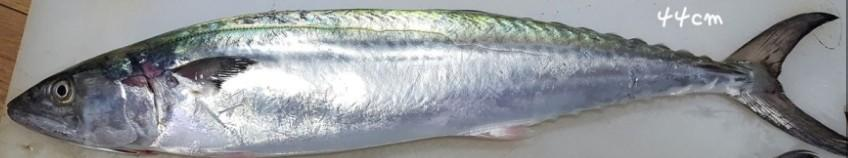fish: (8, 8, 847, 157)
